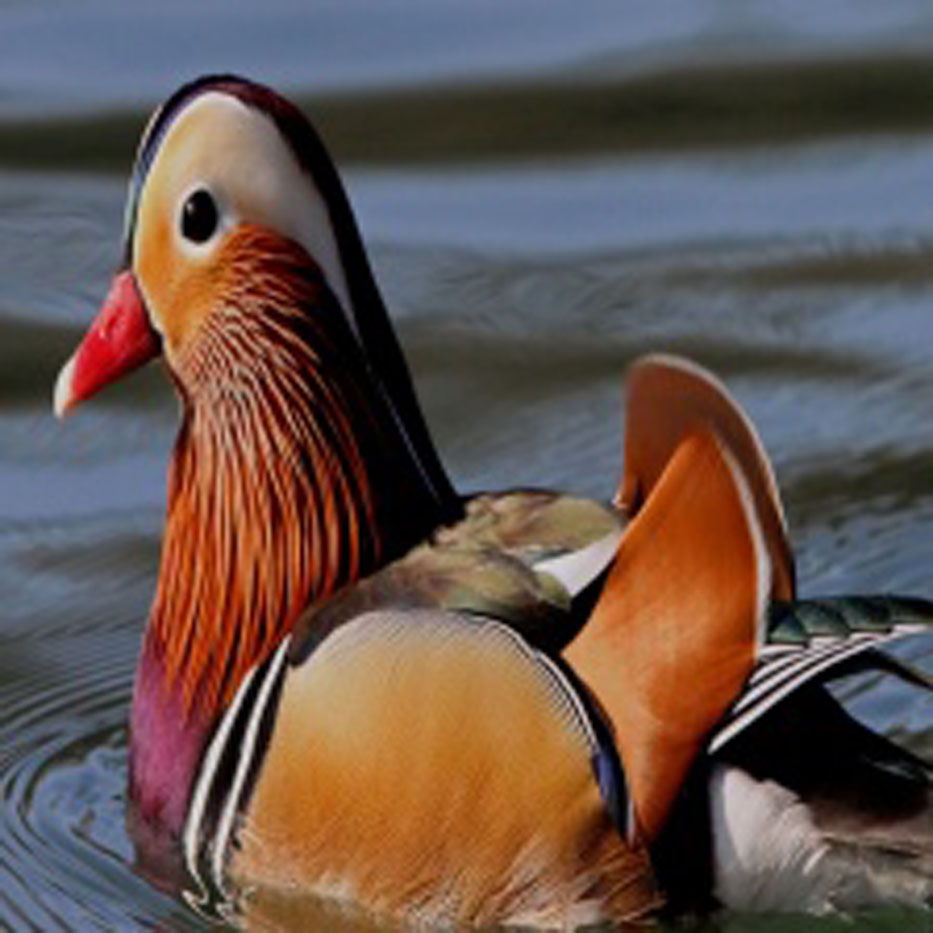Mencari Makan di Lumpur: (36, 272, 163, 425)
